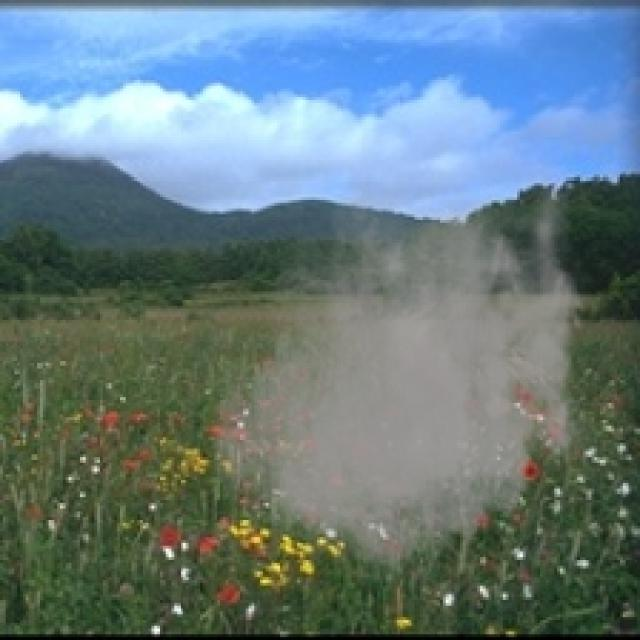smoke: (200, 169, 603, 594)
